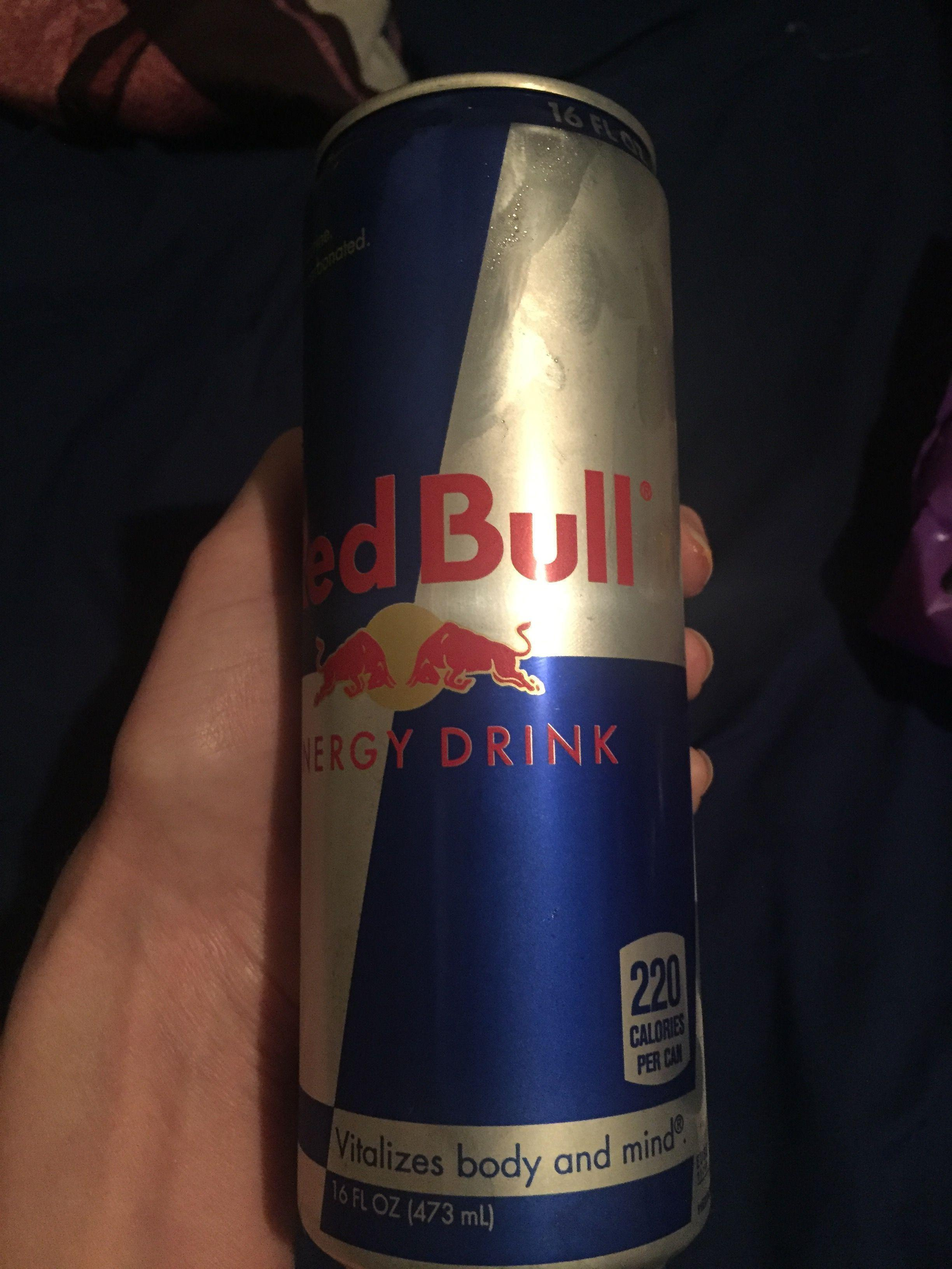tin can: (278, 72, 713, 1269)
